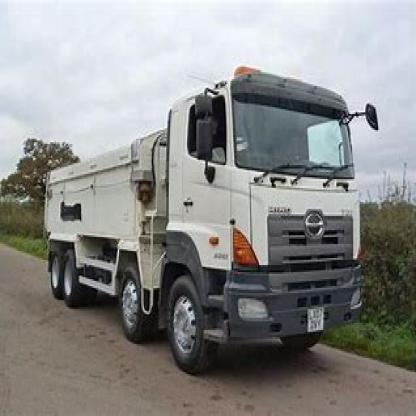dump_truck: (39, 49, 370, 390)
